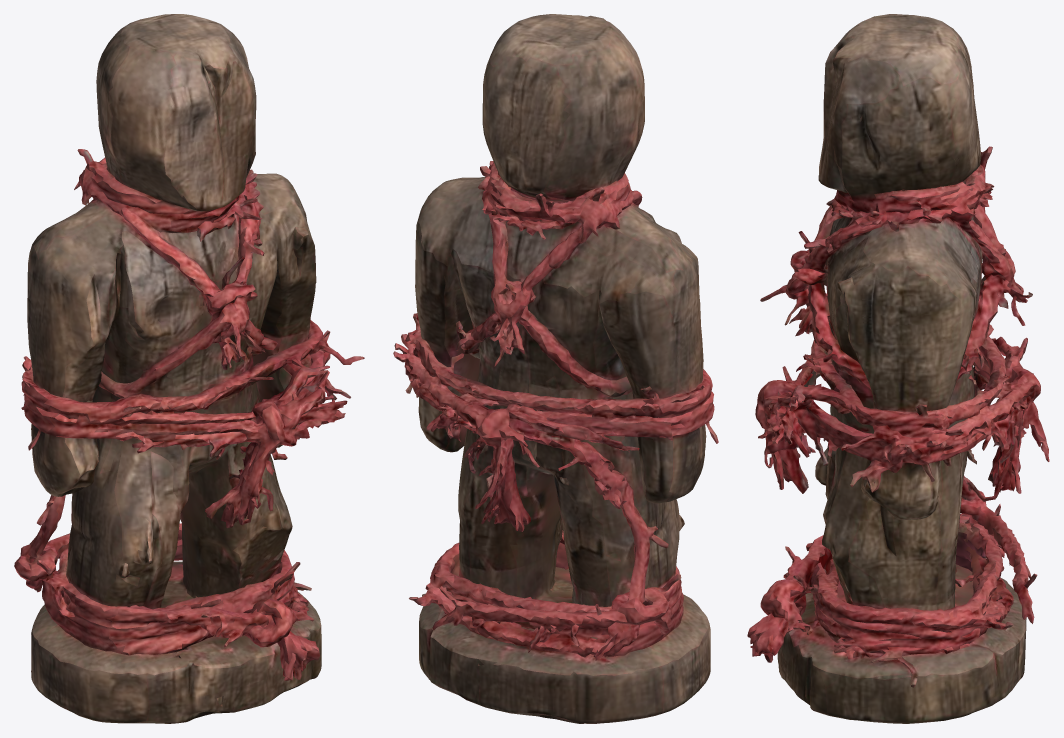
The model's file is relic_idol.glb.
3 renders of one model, left to right at view 1: azimuth 30°, elevation 25°; view 2: azimuth 150°, elevation 25°; view 3: azimuth 270°, elevation 25°, orthographic.
Parts seen in each view (by area): view 1: geometry_0; view 2: geometry_0; view 3: geometry_0.
Boxes of the visible parts, x1=… form: geometry_0: x1=14, y1=14, x2=364, y2=723; geometry_0: x1=393, y1=14, x2=718, y2=723; geometry_0: x1=747, y1=14, x2=1049, y2=723.
Bounding box in the file's own units: 0.1772 × 0.35 × 0.1511.
1 material, 1 textured.
